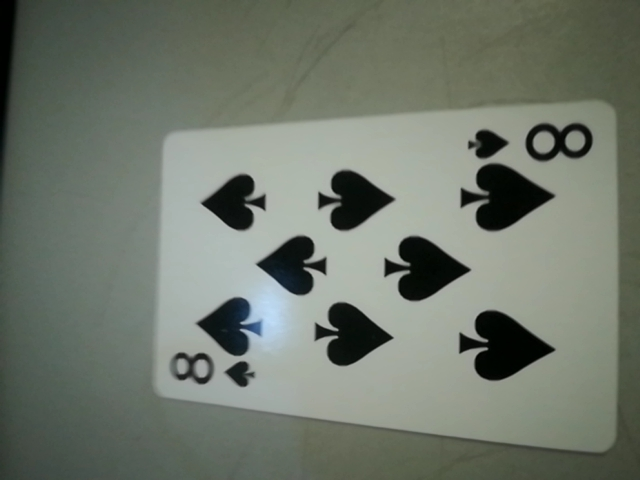ht 8: (472, 116, 606, 172)
